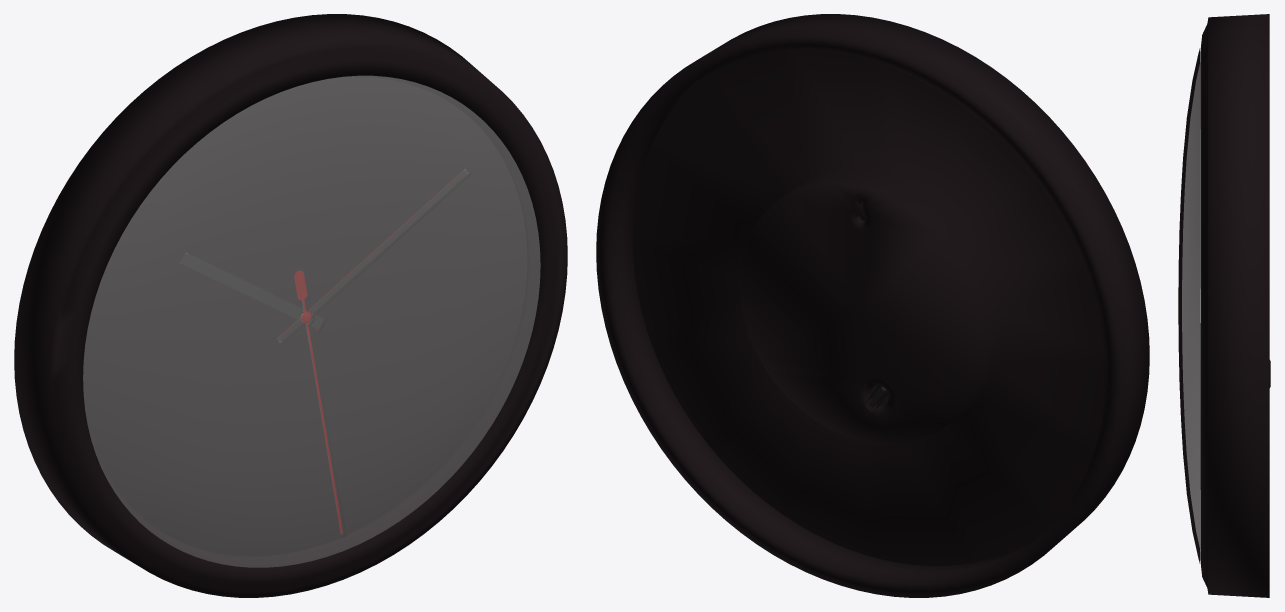
Rendered from SM_Int_WallClock.fbx.
The picture shows the model from 3 angles, left to right: view 1: azimuth 30°, elevation 25°; view 2: azimuth 150°, elevation 25°; view 3: azimuth 270°, elevation 25°; orthographic projection. The views are drawn at different scales.
Visible parts, largest first — view 1: SM_Int_WallClock; view 2: SM_Int_WallClock; view 3: SM_Int_WallClock.
Boxes of the visible parts, x1,y1,x2,y2 form: SM_Int_WallClock: (14,14,567,597); SM_Int_WallClock: (596,14,1149,597); SM_Int_WallClock: (1178,14,1270,597).
Bounding box in the file's own units: 0.3234 × 0.3234 × 0.0511.
